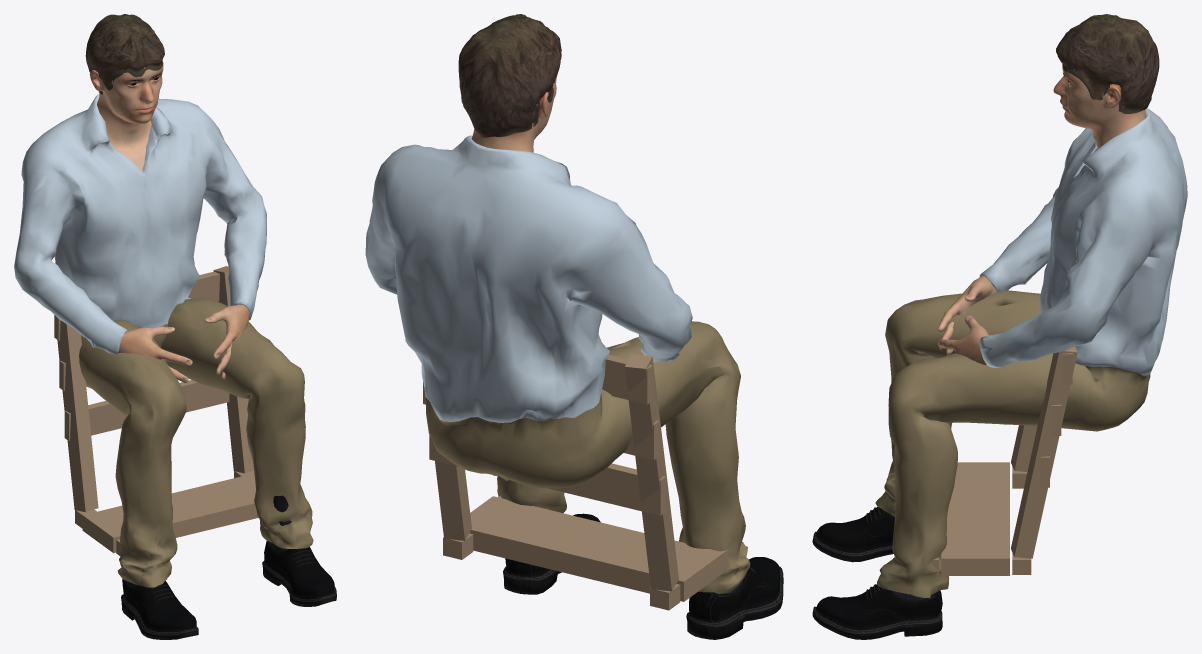
The model's file is seated-man-1951-b.glb.
The picture shows the model from 3 angles, left to right: view 1: azimuth 30°, elevation 25°; view 2: azimuth 150°, elevation 25°; view 3: azimuth 270°, elevation 25°; orthographic projection. The views are drawn at different scales.
Visible parts, largest first — view 1: Human.male_shirt1951b.001, chair, Human.001, Human.shoes03.001, Human.short02.001; view 2: Human.male_shirt1951b.001, chair, Human.short02.001, Human.shoes03.001, Human.001; view 3: Human.male_shirt1951b.001, chair, Human.shoes03.001, Human.short02.001, Human.001.
Boxes of the visible parts, x1=… form: Human.male_shirt1951b.001: x1=14, y1=94, x2=313, y2=587; chair: x1=54, y1=266, x2=258, y2=556; Human.001: x1=89, y1=66, x2=249, y2=382; Human.shoes03.001: x1=121, y1=495, x2=336, y2=639; Human.short02.001: x1=85, y1=14, x2=164, y2=94; Human.male_shirt1951b.001: x1=365, y1=135, x2=750, y2=593; chair: x1=423, y1=354, x2=729, y2=610; Human.short02.001: x1=458, y1=14, x2=561, y2=137; Human.shoes03.001: x1=503, y1=513, x2=783, y2=639; Human.001: x1=471, y1=75, x2=557, y2=152; Human.male_shirt1951b.001: x1=875, y1=108, x2=1187, y2=598; chair: x1=932, y1=347, x2=1077, y2=575; Human.shoes03.001: x1=812, y1=507, x2=942, y2=639; Human.short02.001: x1=1056, y1=14, x2=1159, y2=113; Human.001: x1=938, y1=64, x2=1145, y2=364.
Size of the model in its own units: 0.756 by 1.51 by 0.9006.
Materials: 7 (6 with a texture image).
